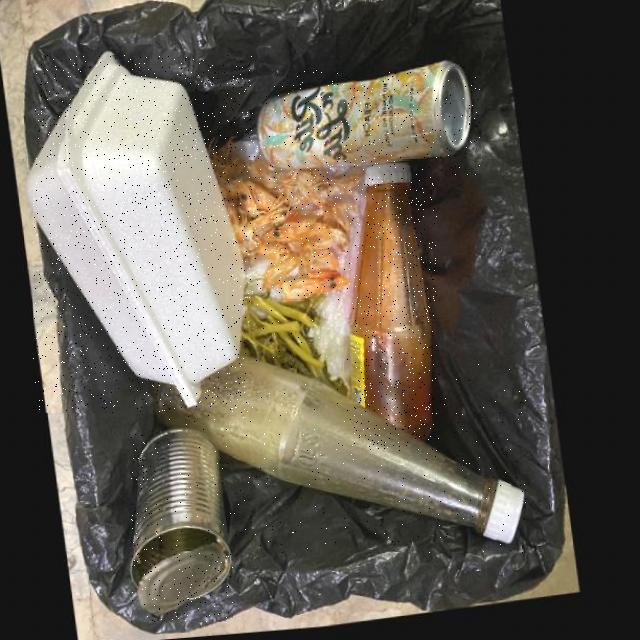biowaste: (217, 142, 373, 292), (246, 300, 350, 399), (286, 274, 357, 309)
glass: (158, 362, 528, 552), (354, 171, 437, 450)
metal: (266, 70, 480, 175), (131, 433, 233, 622)
styrofoam: (34, 55, 253, 412)
